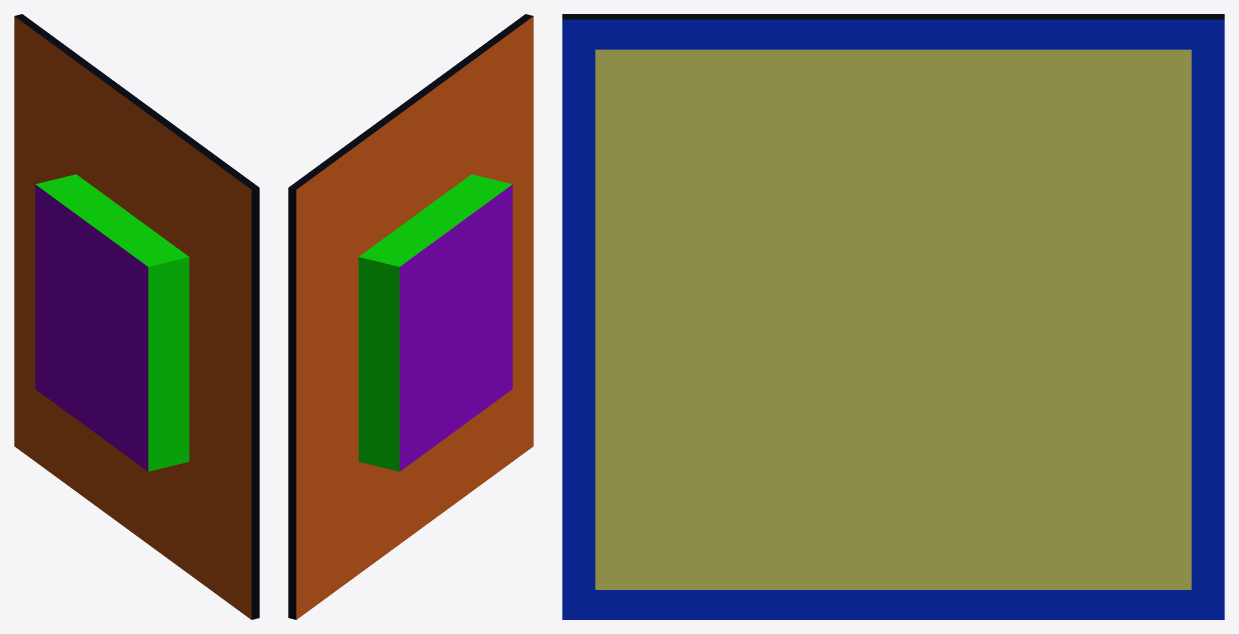
3 renders of one model, left to right at view 1: azimuth 30°, elevation 25°; view 2: azimuth 150°, elevation 25°; view 3: azimuth 270°, elevation 25°, orthographic. The views are drawn at different scales.
Visible parts, largest first — view 1: model; view 2: model; view 3: model.
Boxes of the visible parts, <box> form: model: <box>14,14,259,619</box>; model: <box>288,14,533,619</box>; model: <box>562,14,1224,619</box>.
Bounding box in the file's own units: 0.06 × 0.5 × 0.5.
